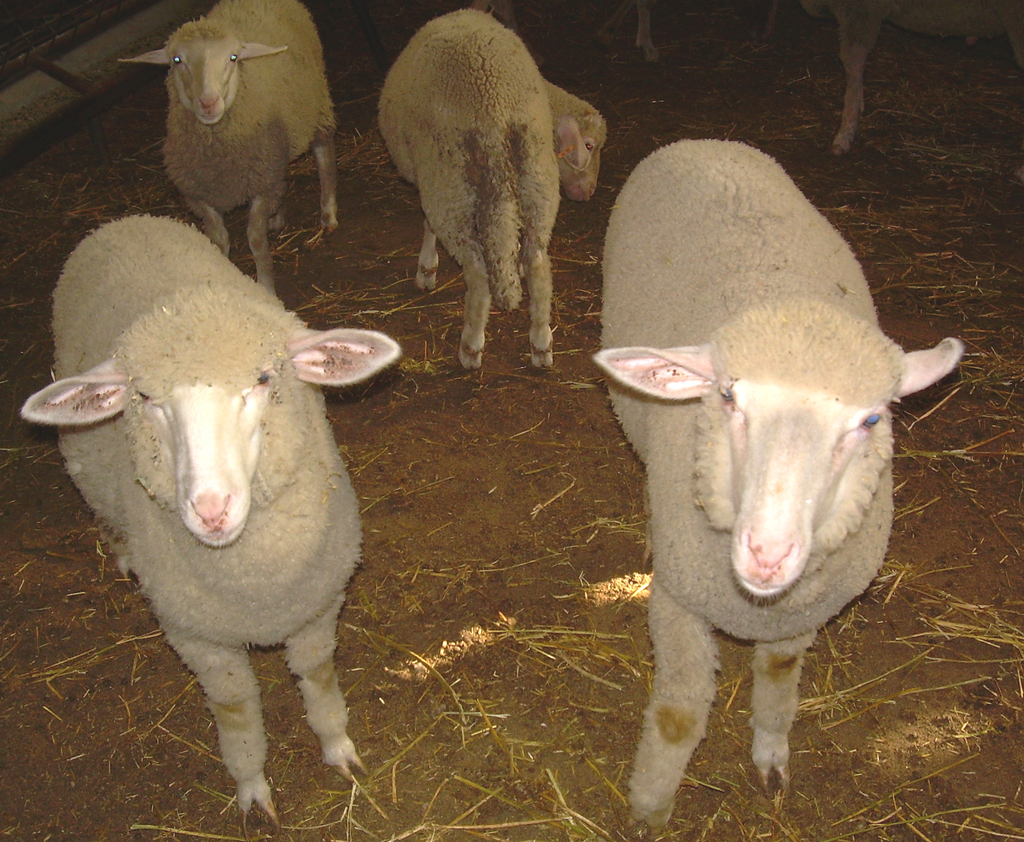sheep: (589, 136, 965, 836), (16, 213, 401, 825), (375, 7, 608, 369)
